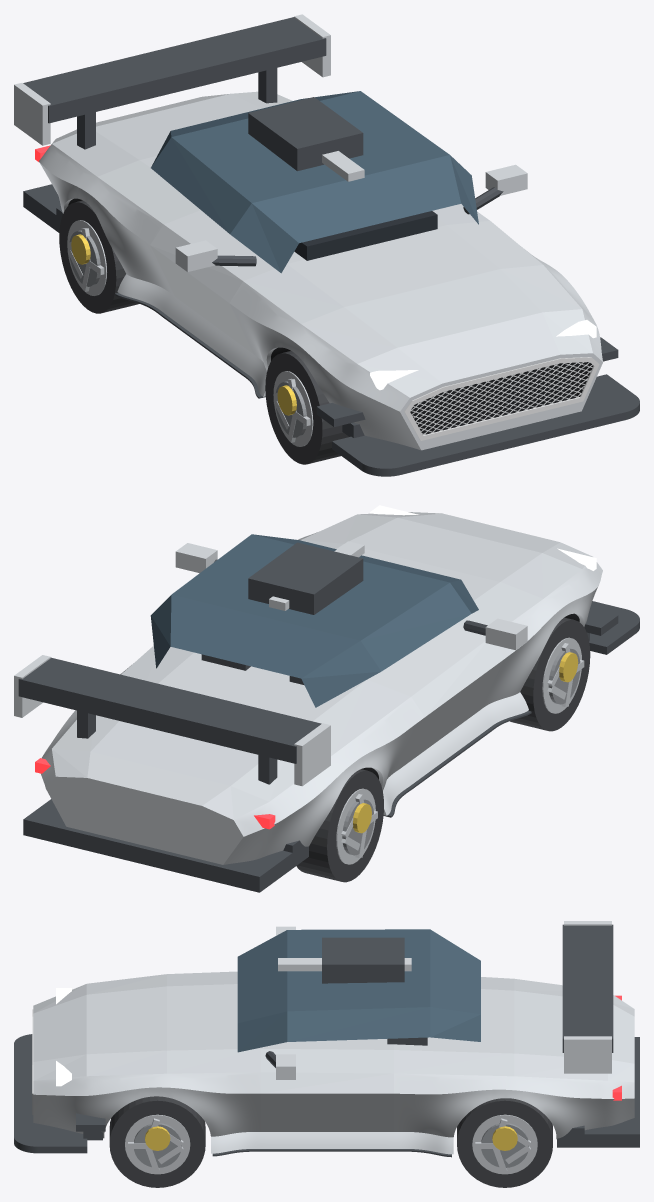
The model's file is gt_racecar_v2_fenders_rev4.glb.
3 renders of one model, top to bottom at view 1: azimuth 30°, elevation 25°; view 2: azimuth 150°, elevation 25°; view 3: azimuth 270°, elevation 25°, orthographic. The views are drawn at different scales.
Parts seen in each view (by area): view 1: Sculpted_Main_Body, Panoramic_Glass_Canopy, GT_Rear_Wing, Front_Splitter, Roof_Air_Scoop, Front_Grille_Back_Wall, Wheel_FL, Wheel_RL, Dashboard, Front_Grille_Chrome_Border, Front_Grille_Diamond_Mesh_A, Front_Grille_Diamond_Mesh_B (+12 smaller); view 2: Sculpted_Main_Body, Panoramic_Glass_Canopy, GT_Rear_Wing, Rear_Diffuser, Roof_Air_Scoop, Wheel_RL, Wheel_FL, GT_Wing_Endplate_L, Front_Splitter, Mirror_L, Mirror_R, Rim_FL (+7 smaller); view 3: Sculpted_Main_Body, Panoramic_Glass_Canopy, GT_Rear_Wing, Wheel_FR, Wheel_RR, Roof_Air_Scoop, Front_Splitter, Rear_Diffuser, GT_Wing_Endplate_R, Rim_RR, Rim_FR, Disc_FR (+8 smaller).
Boxes of the visible parts, x1,y1,x2,y2 form: Sculpted_Main_Body: [39, 91, 602, 450]; Panoramic_Glass_Canopy: [151, 91, 478, 273]; GT_Rear_Wing: [23, 17, 326, 123]; Front_Splitter: [332, 374, 639, 476]; Roof_Air_Scoop: [248, 97, 363, 171]; Front_Grille_Back_Wall: [410, 362, 590, 432]; Wheel_FL: [265, 351, 348, 464]; Wheel_RL: [59, 200, 139, 313]; Dashboard: [294, 211, 437, 260]; Front_Grille_Chrome_Border: [404, 357, 599, 440]; Front_Grille_Diamond_Mesh_A: [410, 362, 592, 434]; Front_Grille_Diamond_Mesh_B: [410, 362, 592, 434]; Sculpted_Main_Body: [41, 512, 602, 864]; Panoramic_Glass_Canopy: [150, 534, 478, 707]; GT_Rear_Wing: [18, 657, 321, 763]; Rear_Diffuser: [23, 799, 308, 892]; Roof_Air_Scoop: [248, 542, 363, 614]; Wheel_RL: [296, 769, 383, 882]; Wheel_FL: [510, 617, 590, 731]; GT_Wing_Endplate_L: [294, 723, 330, 786]; Front_Splitter: [589, 601, 639, 654]; Mirror_L: [485, 618, 527, 650]; Mirror_R: [175, 543, 217, 573]; Rim_FL: [542, 637, 581, 713]; Sculpted_Main_Body: [33, 971, 634, 1154]; Panoramic_Glass_Canopy: [237, 929, 480, 1052]; GT_Rear_Wing: [562, 924, 613, 1052]; Wheel_FR: [109, 1096, 205, 1187]; Wheel_RR: [457, 1098, 552, 1187]; Roof_Air_Scoop: [322, 937, 404, 983]; Front_Splitter: [14, 1034, 87, 1153]; Rear_Diffuser: [557, 1037, 639, 1147]; GT_Wing_Endplate_R: [564, 1036, 611, 1073]; Rim_RR: [472, 1114, 537, 1174]; Rim_FR: [125, 1114, 190, 1174]; Disc_FR: [134, 1123, 181, 1167].
Bounding box in the file's own units: 2.48 × 1.5 × 4.68.
